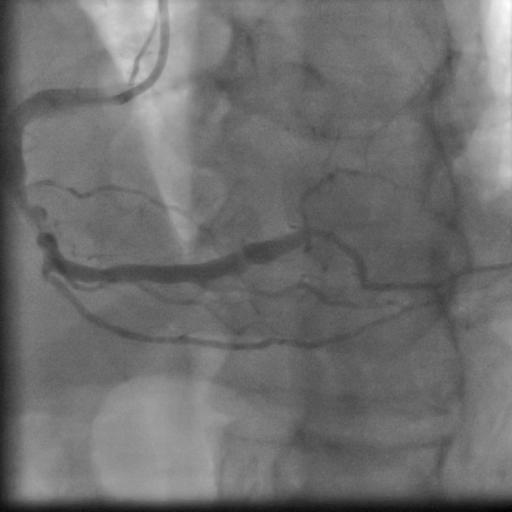Stenosis: (23, 202, 57, 241)
